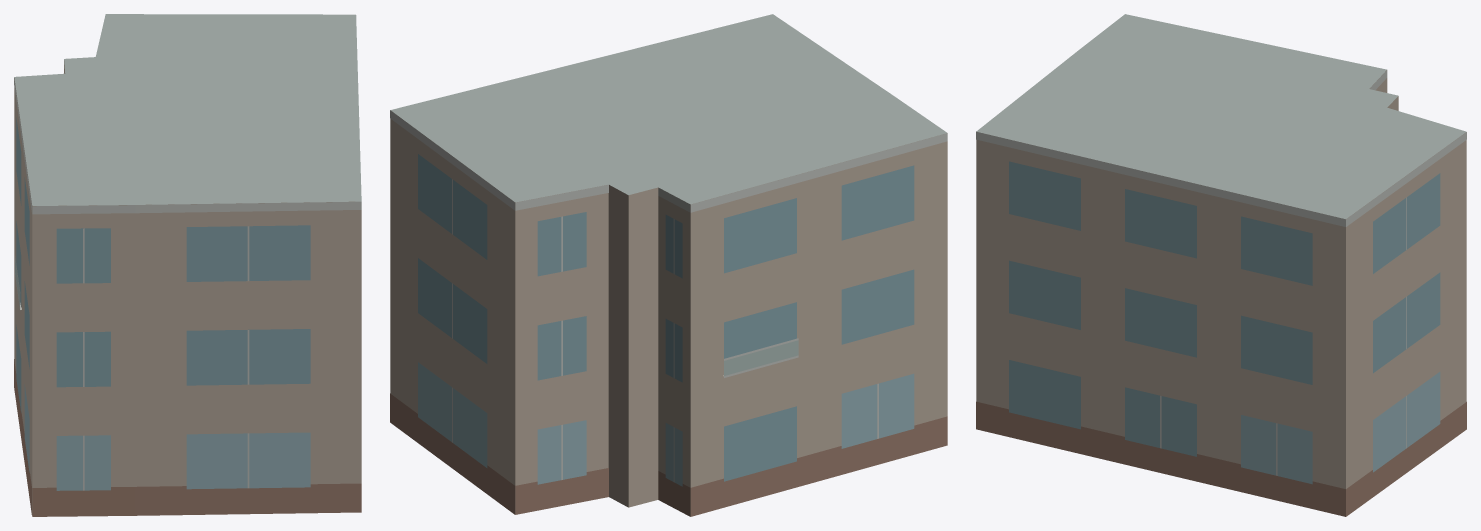
The model's file is survey-upis-33028497.glb.
The picture shows the model from 3 angles, left to right: view 1: azimuth 30°, elevation 25°; view 2: azimuth 150°, elevation 25°; view 3: azimuth 270°, elevation 25°; orthographic projection. The views are drawn at different scales.
Visible parts, largest first — view 1: survey-upis-33028497.tmp; view 2: survey-upis-33028497.tmp; view 3: survey-upis-33028497.tmp.
Part boxes in pixels (x1,y1,x2,y2): survey-upis-33028497.tmp: (14, 14, 361, 516); survey-upis-33028497.tmp: (390, 14, 947, 516); survey-upis-33028497.tmp: (976, 14, 1466, 516).
Size of the model in its own units: 13.54 by 9.15 by 13.68.
